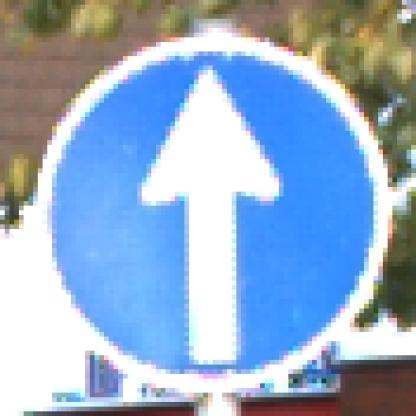AheadOnly: (34, 39, 384, 385)
